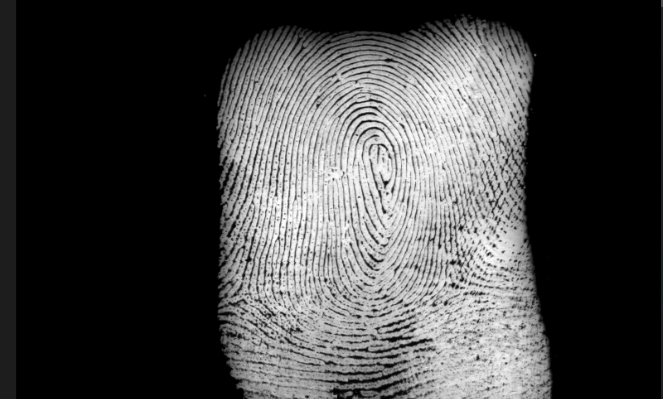nucelo: (370, 139, 395, 188)
verticilo: (228, 284, 260, 308), (441, 268, 468, 291)
